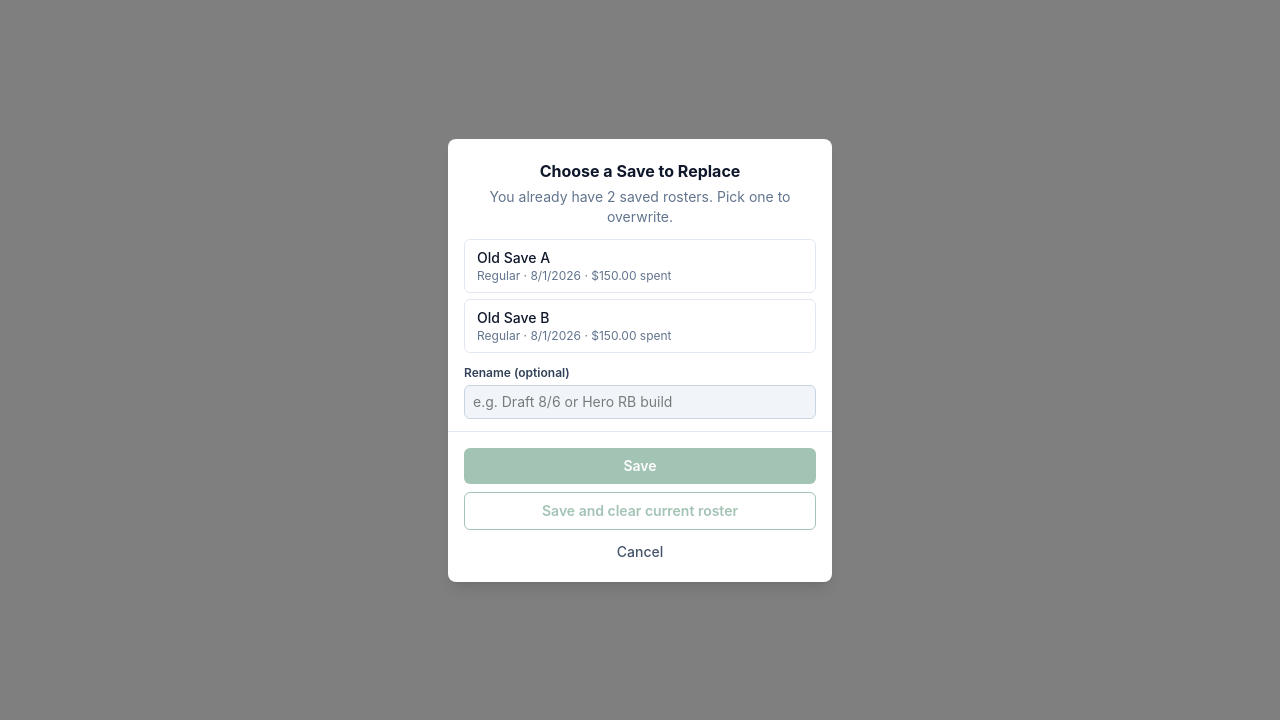
SaveRosterDialog — overwrite mode › picking a save pre-fills the rename field with its existing name and enables Save
Click the text "Old Save A": (514, 257) top-left (477, 248), bottom-right (550, 266)
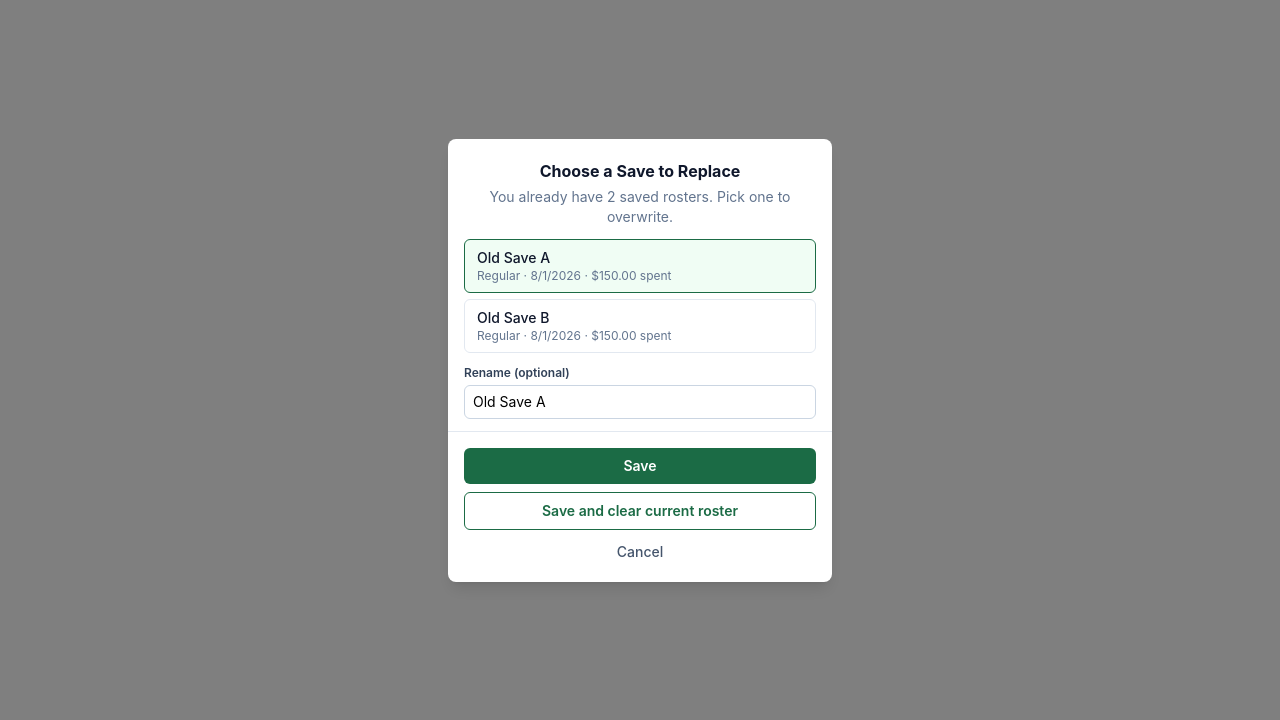
Check: the field labelled "Rename (optional)" holds "Old Save A", box top-left (464, 384), bottom-right (816, 418)
Check: the button "Save" is enabled, box top-left (464, 448), bottom-right (816, 484)
